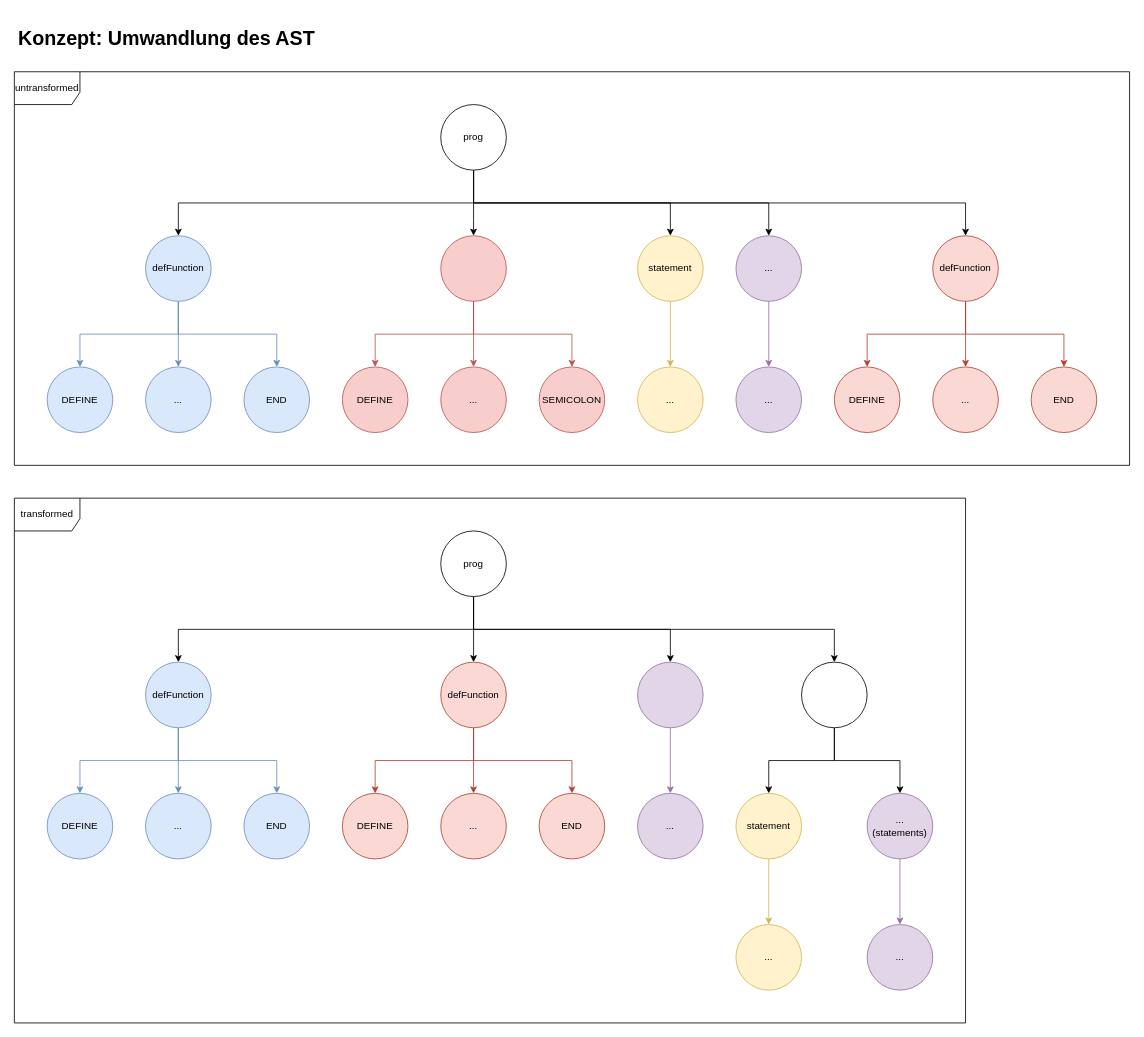
The diagram is 1144 pixels wide and 1037 high, and some of its shapes have lost their labels. Here are the shapes that lost their labels. From the top down, the centre of each, then its label:
the point at 473,268: decFunction
the point at 670,694: ... (Functions)
the point at 834,694: mainFunction
